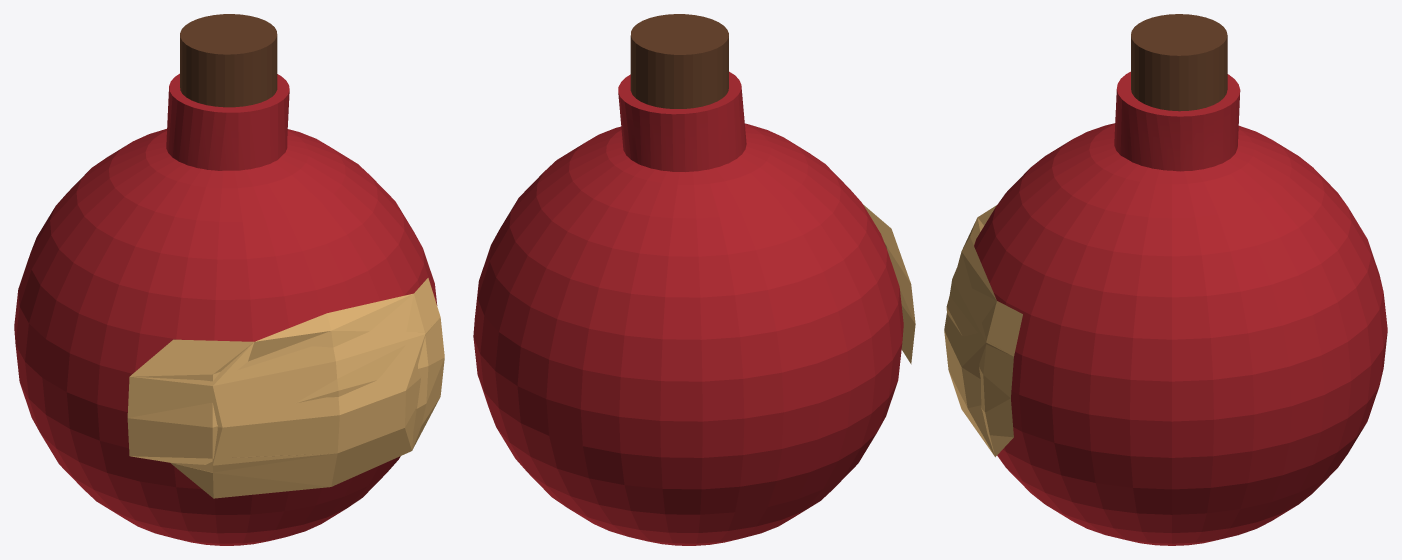
The model's file is GreatPotionBottleRED.fbx.
The picture shows the model from 3 angles, left to right: view 1: azimuth 30°, elevation 25°; view 2: azimuth 150°, elevation 25°; view 3: azimuth 270°, elevation 25°; orthographic projection.
Parts seen in each view (by area): view 1: Sphere, Plane, Cylinder.001, Cylinder; view 2: Sphere, Cylinder.001, Cylinder, Plane; view 3: Sphere, Plane, Cylinder.001, Cylinder.
Boxes of the visible parts, bbox=[...] form: Sphere: bbox=[14, 129, 437, 545]; Plane: bbox=[127, 278, 444, 498]; Cylinder.001: bbox=[180, 14, 277, 107]; Cylinder: bbox=[166, 73, 289, 170]; Sphere: bbox=[473, 123, 903, 545]; Cylinder.001: bbox=[630, 14, 728, 108]; Cylinder: bbox=[618, 71, 746, 171]; Plane: bbox=[863, 204, 915, 364]; Sphere: bbox=[974, 123, 1387, 545]; Plane: bbox=[944, 205, 1022, 457]; Cylinder.001: bbox=[1131, 14, 1227, 111]; Cylinder: bbox=[1114, 71, 1240, 171].
Bounding box in the file's own units: 327 × 413 × 336.
